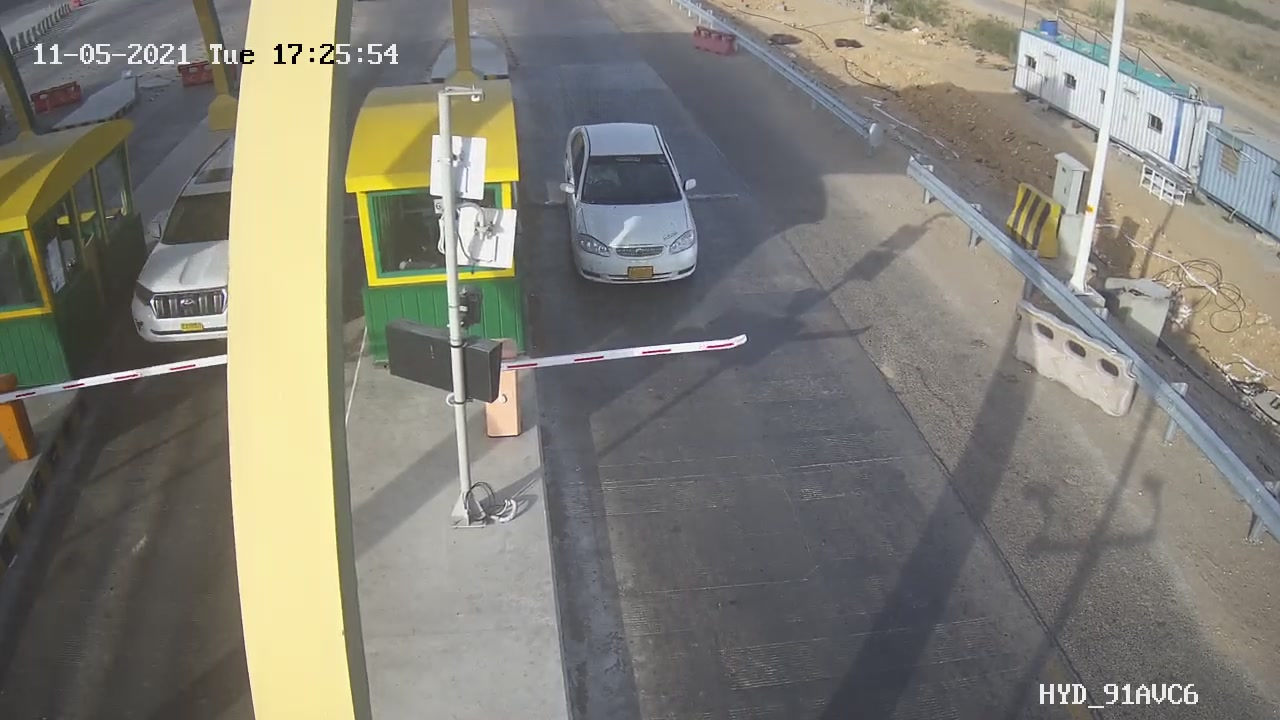F1: (537, 104, 725, 309)
